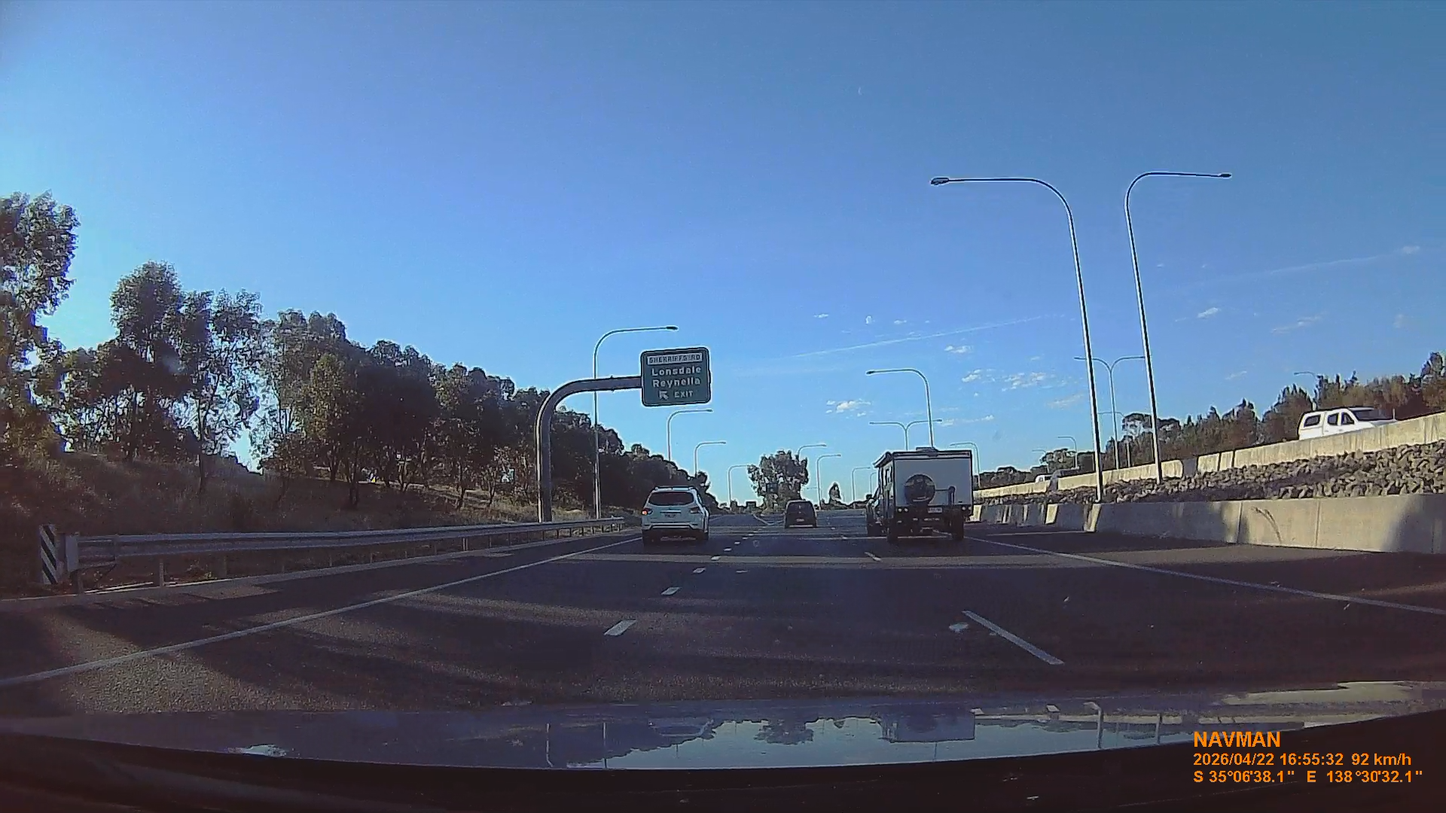road barriers: (42, 519, 593, 592), (982, 487, 1444, 553), (1084, 495, 1445, 553)
